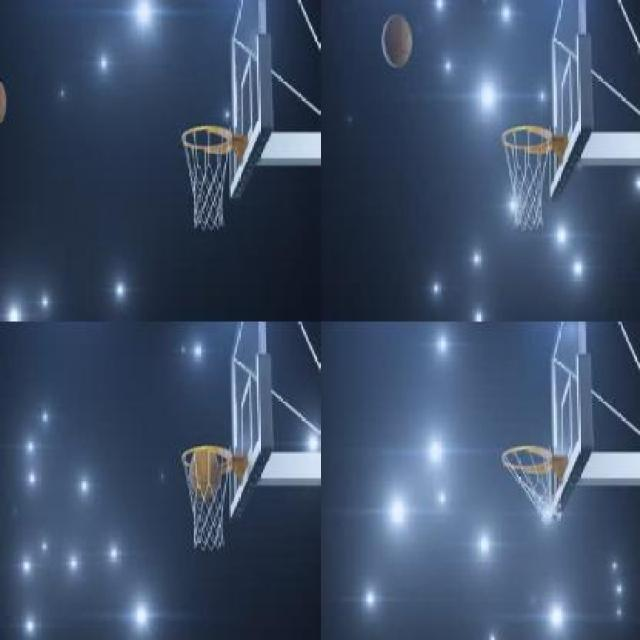basketball: (381, 16, 413, 68)
rim: (501, 125, 553, 232), (182, 126, 232, 230), (180, 444, 228, 550)
